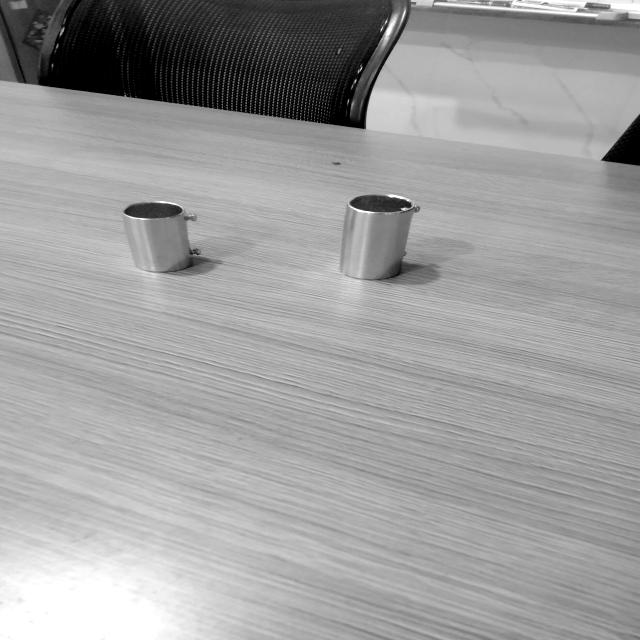Co_Lon: (334, 187, 421, 287)
Co_Nho: (121, 197, 201, 276)
